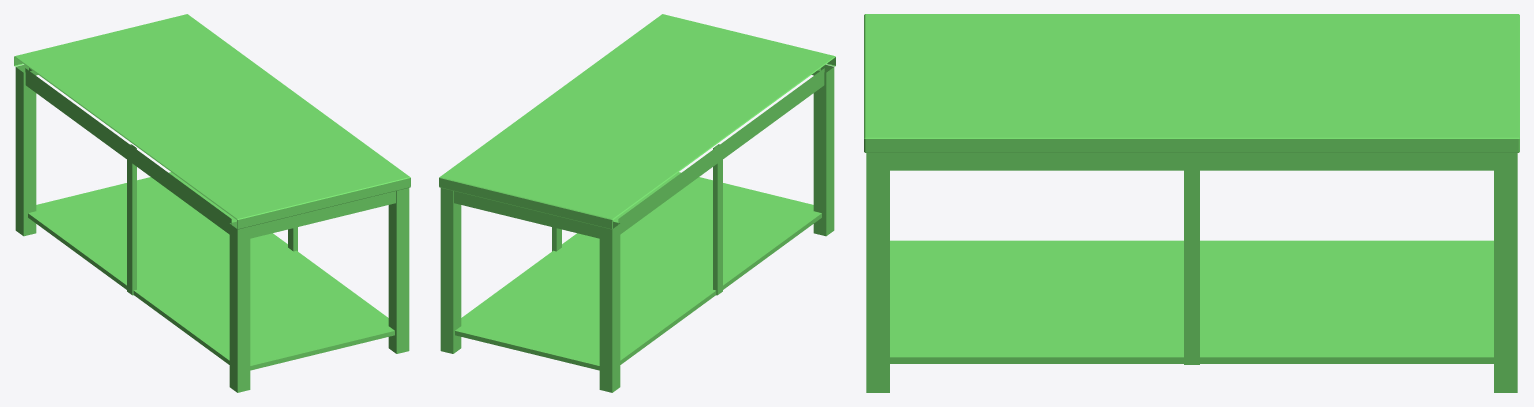
File: G_Table_04.fbx
3 views of the same model, side by side, from view 1: azimuth 30°, elevation 25°; view 2: azimuth 150°, elevation 25°; view 3: azimuth 270°, elevation 25° (orthographic). The views are drawn at different scales.
Parts seen in each view (by area): view 1: table.002; view 2: table.002; view 3: table.002.
Part boxes in pixels (x1=…): table.002: x1=14, y1=14, x2=410, y2=392; table.002: x1=439, y1=14, x2=835, y2=392; table.002: x1=864, y1=14, x2=1519, y2=392.
Size of the model in its own units: 1051 by 1006 by 2338.
